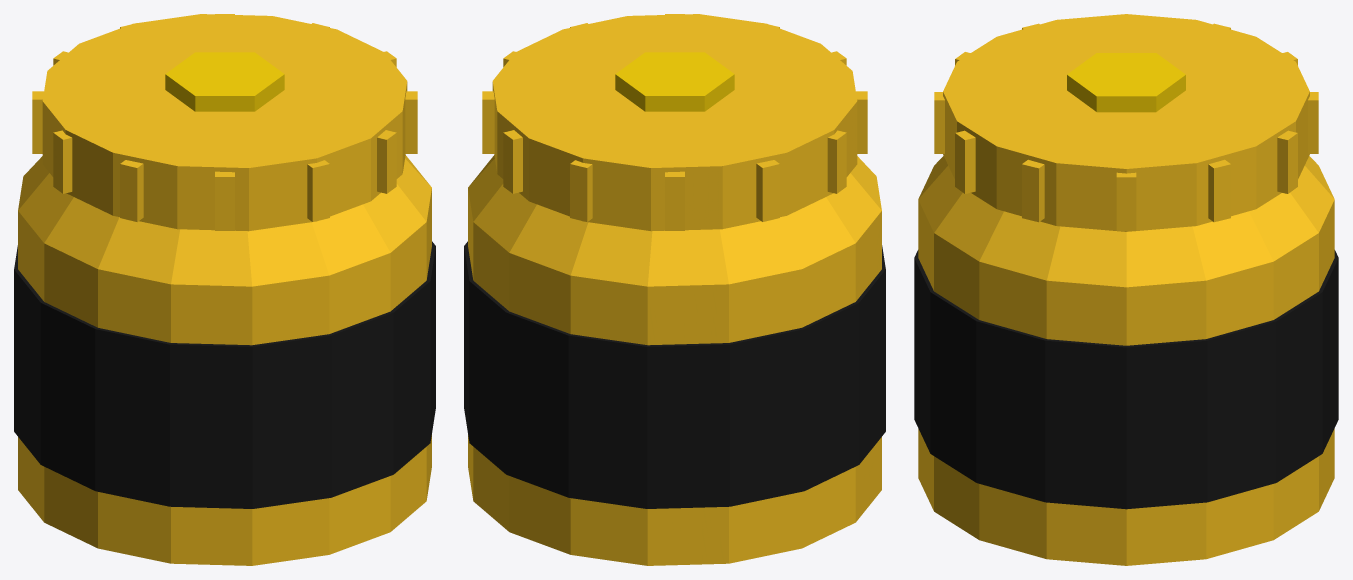
The model's file is ProteinTub_Gold.fbx.
3 renders of one model, left to right at view 1: azimuth 30°, elevation 25°; view 2: azimuth 150°, elevation 25°; view 3: azimuth 270°, elevation 25°, orthographic.
Visible parts, largest first — view 1: WaistBand, TubCap, TubBody, TubNeck, CapStarEmblem, CapRidge_8, CapRidge_10, CapRidge_11, CapRidge_9, CapRidge_7, CapRidge_12, CapRidge_6; view 2: WaistBand, TubCap, TubBody, TubNeck, CapStarEmblem, CapRidge_6, CapRidge_4, CapRidge_3, CapRidge_5, CapRidge_7, CapRidge_2, CapRidge_8; view 3: WaistBand, TubCap, TubBody, TubNeck, CapStarEmblem, CapRidge_12, CapRidge_2, CapRidge_11, CapRidge_3, CapRidge_1, CapRidge_10, CapRidge_4.
Part boxes in pixels (x1,y1,x2,y2): WaistBand: [14, 241, 435, 508]; TubCap: [42, 14, 407, 231]; TubBody: [18, 189, 431, 565]; TubNeck: [18, 155, 431, 286]; CapStarEmblem: [165, 52, 284, 111]; CapRidge_8: [120, 160, 143, 221]; CapRidge_10: [307, 160, 329, 221]; CapRidge_11: [377, 130, 396, 193]; CapRidge_9: [215, 171, 234, 230]; CapRidge_7: [53, 130, 72, 193]; CapRidge_12: [405, 91, 417, 153]; CapRidge_6: [32, 91, 43, 153]; WaistBand: [464, 241, 885, 508]; TubCap: [492, 14, 857, 231]; TubBody: [468, 189, 881, 565]; TubNeck: [468, 155, 881, 286]; CapStarEmblem: [615, 52, 734, 111]; CapRidge_6: [756, 160, 779, 221]; CapRidge_4: [570, 160, 592, 221]; CapRidge_3: [503, 130, 522, 193]; CapRidge_5: [665, 171, 684, 230]; CapRidge_7: [827, 130, 846, 193]; CapRidge_2: [482, 91, 494, 153]; CapRidge_8: [856, 91, 867, 153]; WaistBand: [914, 250, 1338, 509]; TubCap: [943, 14, 1309, 231]; TubBody: [918, 200, 1334, 565]; TubNeck: [918, 156, 1334, 287]; CapStarEmblem: [1067, 53, 1185, 112]; CapRidge_12: [1022, 159, 1044, 222]; CapRidge_2: [1208, 159, 1230, 222]; CapRidge_11: [955, 130, 975, 193]; CapRidge_3: [1277, 130, 1297, 193]; CapRidge_1: [1116, 172, 1136, 230]; CapRidge_10: [934, 92, 944, 153]; CapRidge_4: [1308, 92, 1318, 153].
Size of the model in its own units: 0.856 by 0.856 by 0.8975.
